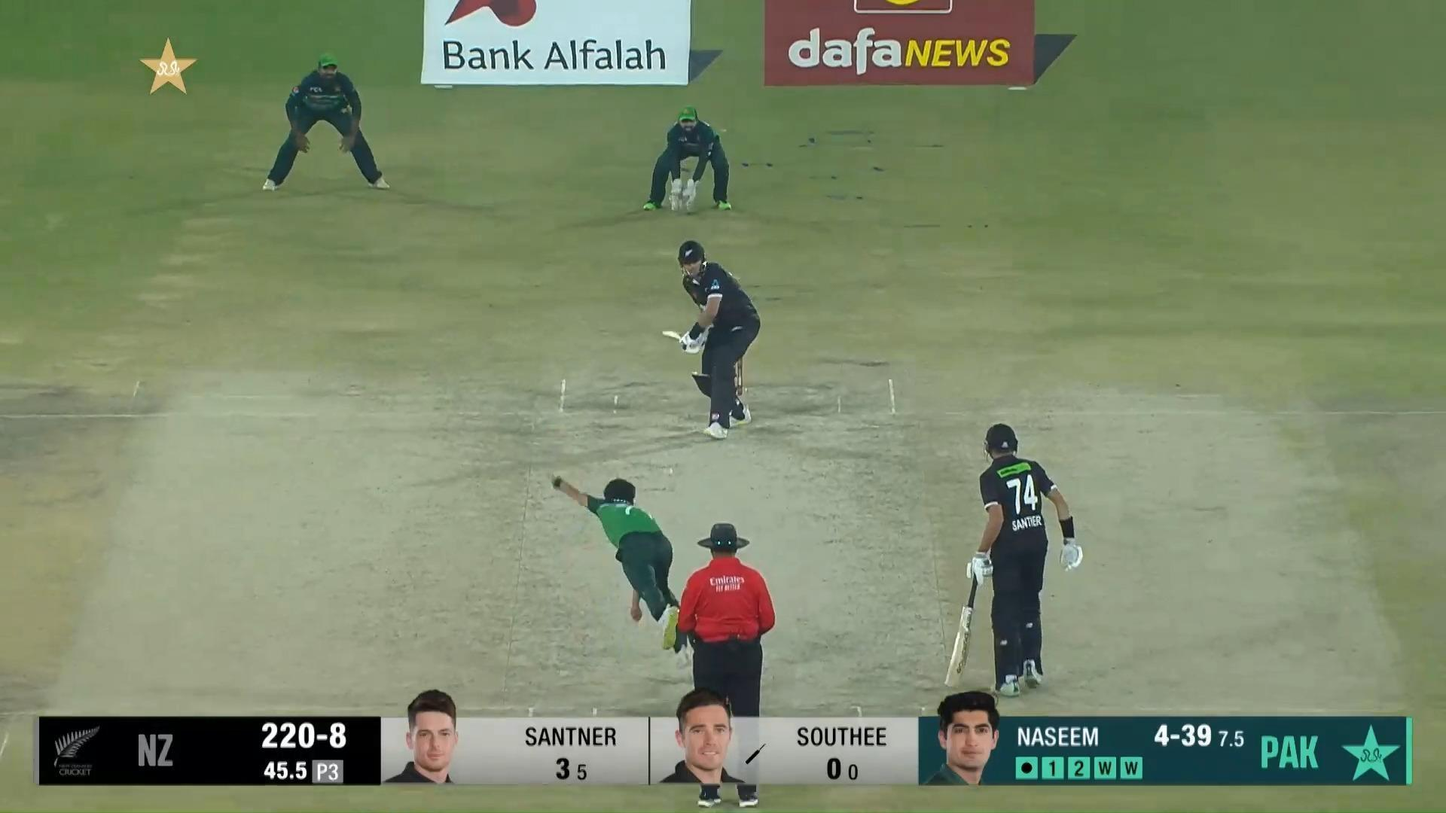BM 1: (660, 238, 763, 442)
BO: (546, 468, 691, 664)
